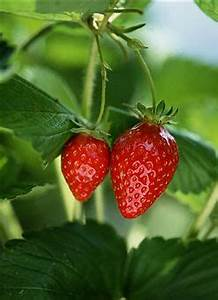Fresa: (108, 112, 185, 222), (57, 124, 113, 204)
